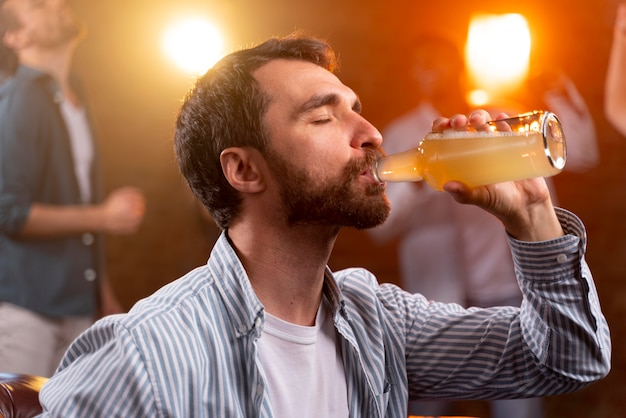alcohol: (372, 113, 574, 197)
